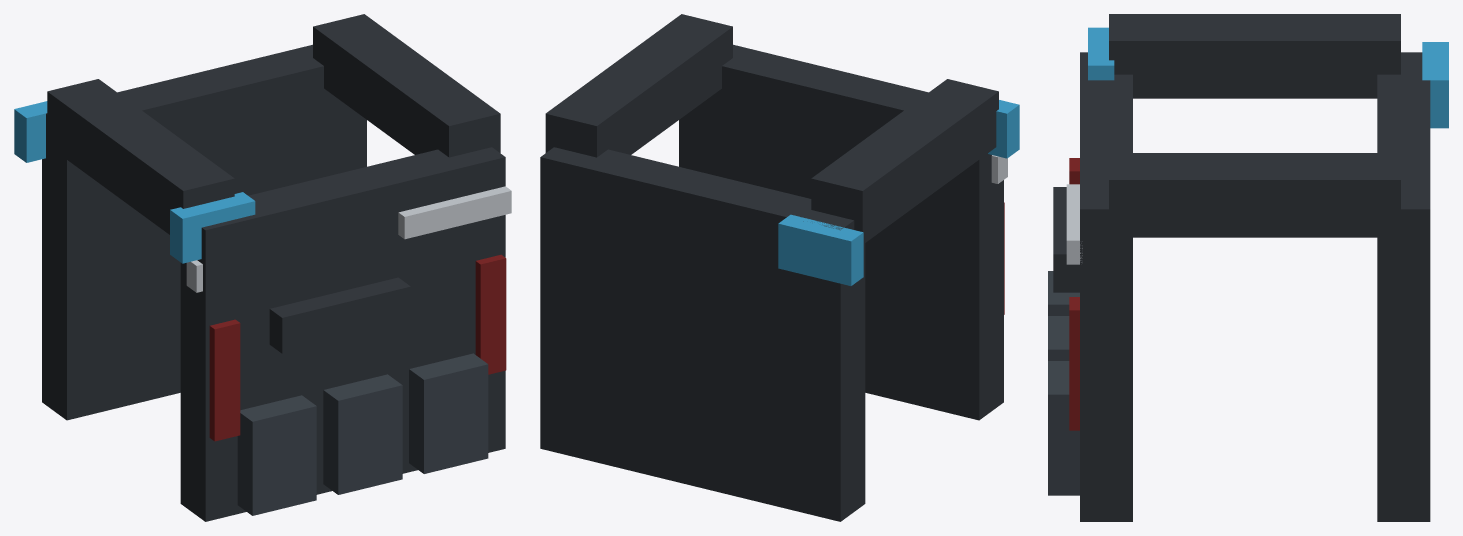
Rendered from pc_assault_gear_carrier.fbx.
The picture shows the model from 3 angles, left to right: view 1: azimuth 30°, elevation 25°; view 2: azimuth 150°, elevation 25°; view 3: azimuth 270°, elevation 25°; orthographic projection. The views are drawn at different scales.
Visible parts, largest first — view 1: pc_assault_gear_carrier; view 2: pc_assault_gear_carrier; view 3: pc_assault_gear_carrier.
Part boxes in pixels (left/top/right/bottom): pc_assault_gear_carrier: left=14, top=14, right=511, bottom=521; pc_assault_gear_carrier: left=540, top=14, right=1019, bottom=521; pc_assault_gear_carrier: left=1048, top=14, right=1448, bottom=521.
Size of the model in its own units: 153 by 144 by 151.
